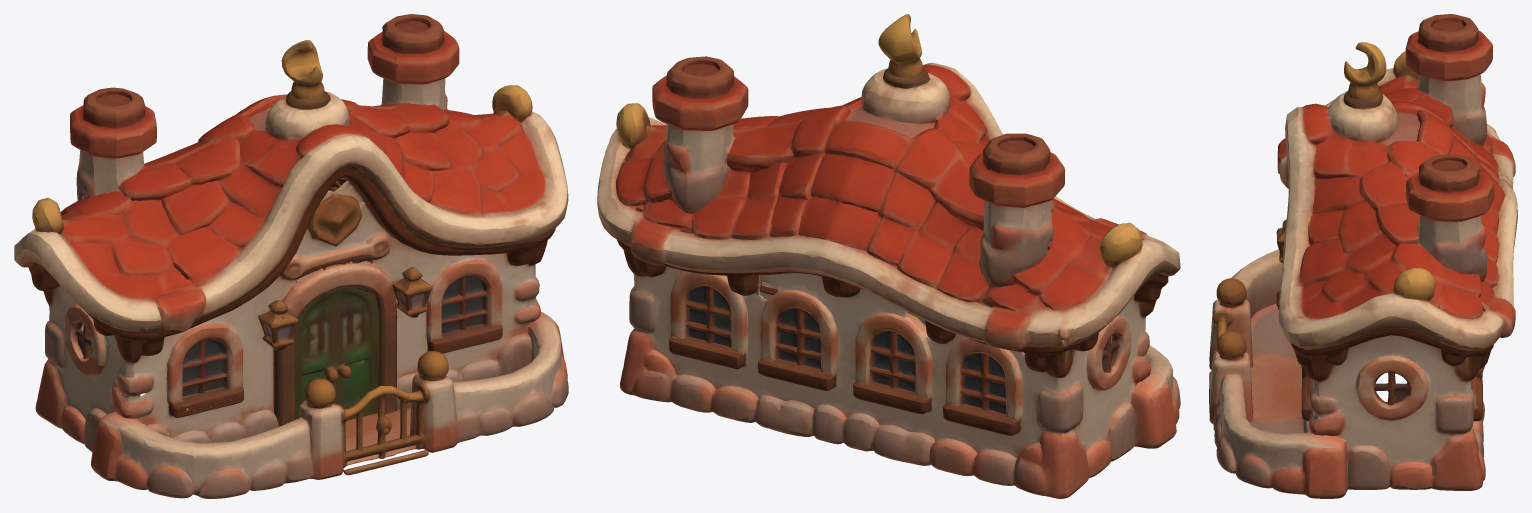
File: B3_小学校舍_精修版.glb
The picture shows the model from 3 angles, left to right: view 1: azimuth 30°, elevation 25°; view 2: azimuth 150°, elevation 25°; view 3: azimuth 270°, elevation 25°; orthographic projection. The views are drawn at different scales.
Parts seen in each view (by area): view 1: world; view 2: world; view 3: world.
Boxes of the visible parts, x1=… form: world: x1=14, y1=14, x2=568, y2=498; world: x1=597, y1=14, x2=1180, y2=498; world: x1=1209, y1=14, x2=1517, y2=498.
Bounding box in the file's own units: 1 × 0.6877 × 0.5468.
Materials: 1 (1 with a texture image).
